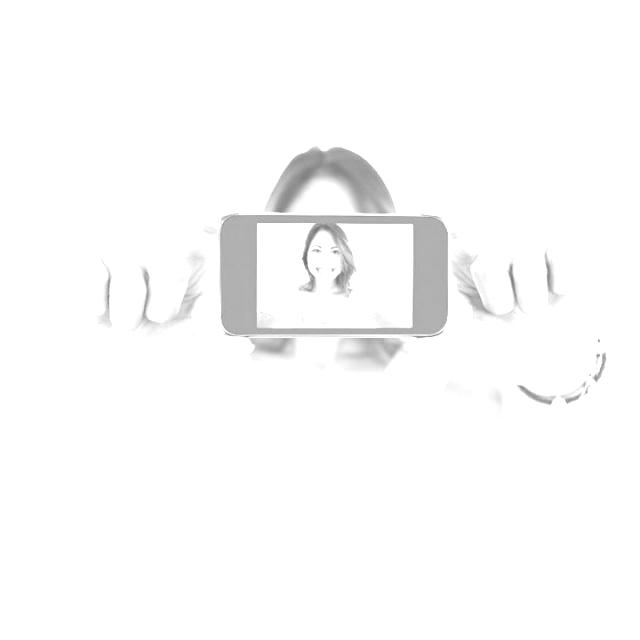fake: (215, 208, 454, 344)
